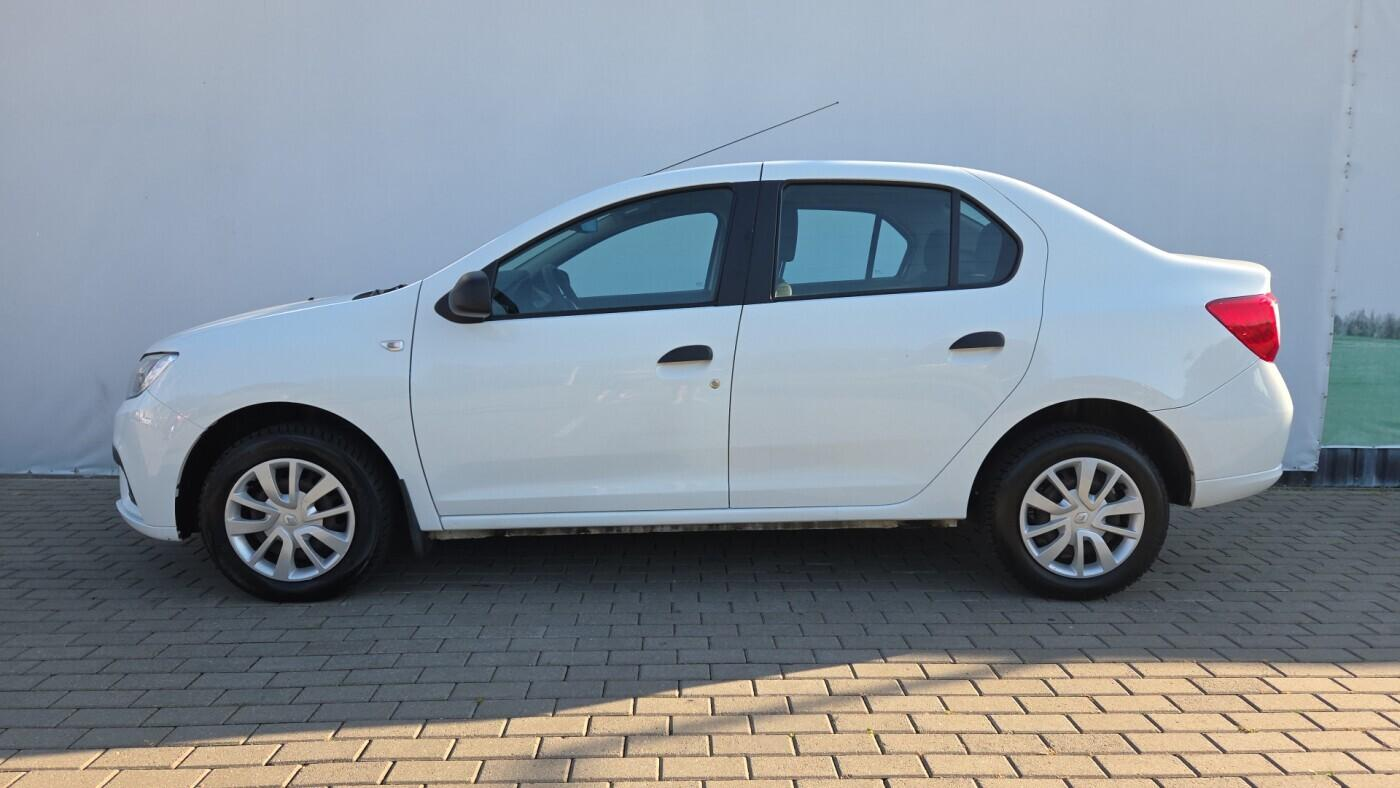Logan_2018: (106, 158, 1299, 594)
